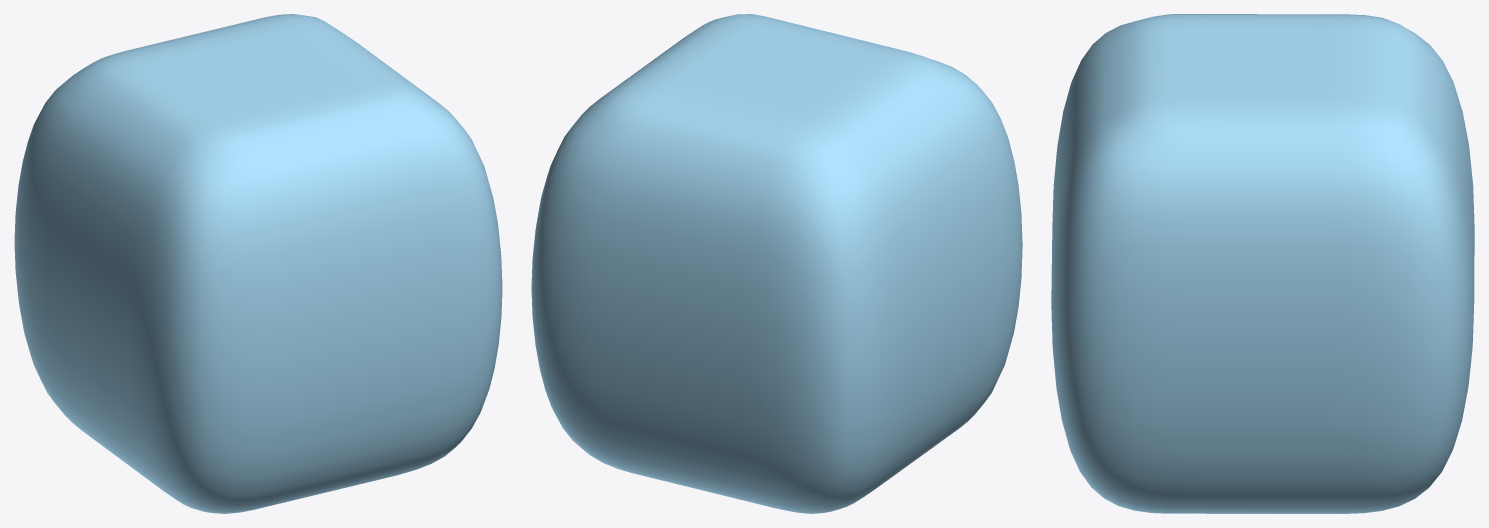
Rendered from blue_body.fbx.
3 renders of one model, left to right at view 1: azimuth 30°, elevation 25°; view 2: azimuth 150°, elevation 25°; view 3: azimuth 270°, elevation 25°, orthographic. The views are drawn at different scales.
Visible parts, largest first — view 1: blue_body; view 2: blue_body; view 3: blue_body.
Part boxes in pixels (bbox=[...]): blue_body: bbox=[14, 14, 502, 513]; blue_body: bbox=[531, 14, 1022, 513]; blue_body: bbox=[1051, 14, 1474, 513].
Bounding box in the file's own units: 0.9746 × 1.01 × 0.9751.
Materials: 1 (1 with a texture image).
